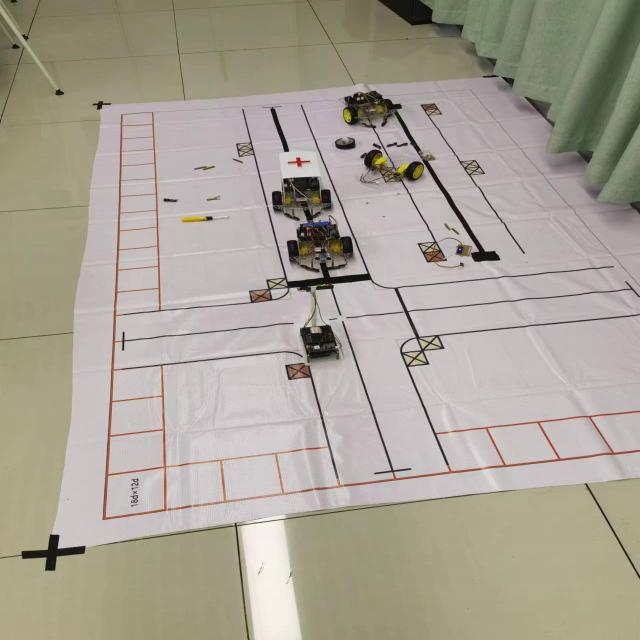RedCross: (284, 156, 313, 170)
